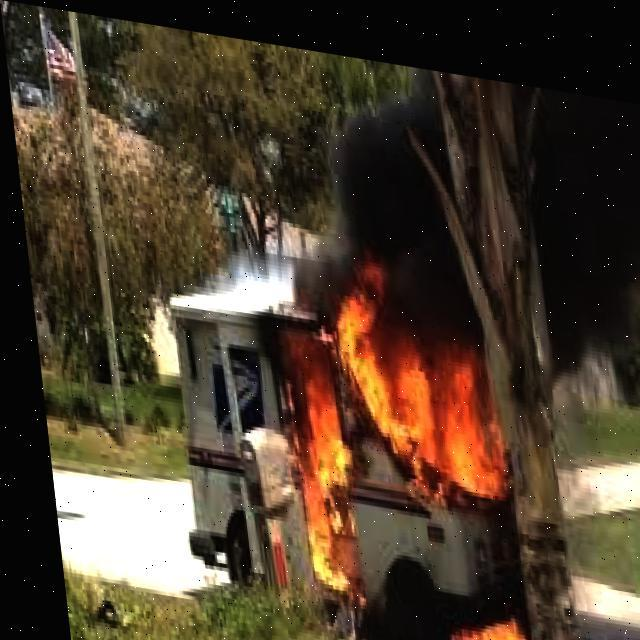Fire: (275, 250, 512, 597), (423, 574, 528, 639)
